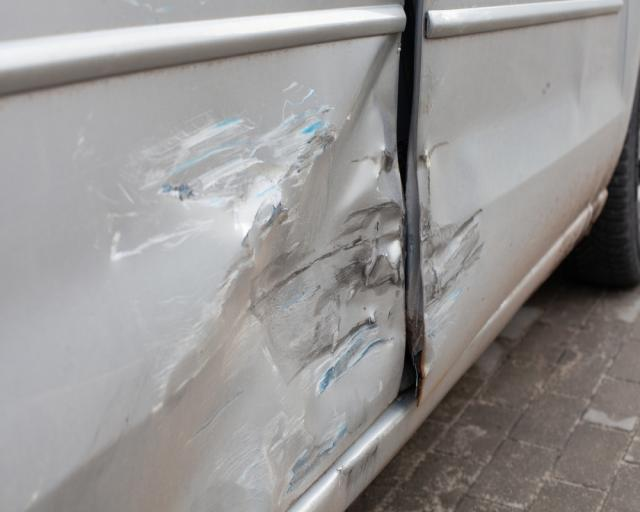dent: (164, 33, 402, 502), (416, 117, 487, 374)
scratch: (138, 82, 337, 237)
